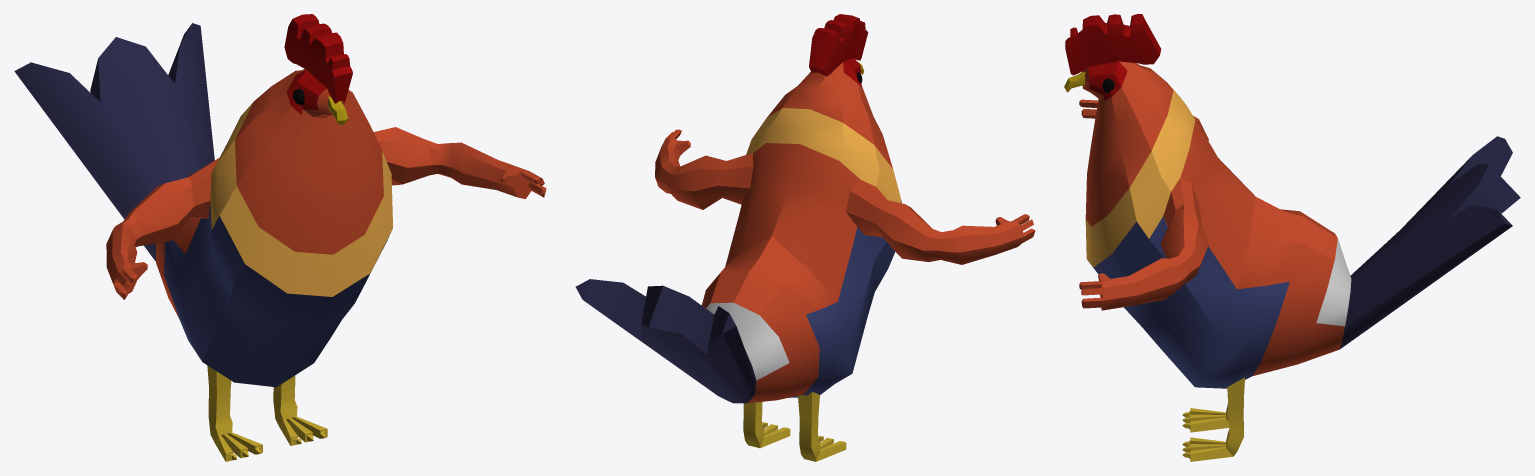
The model's file is rooster with arms model.fbx.
3 views of the same model, side by side, from view 1: azimuth 30°, elevation 25°; view 2: azimuth 150°, elevation 25°; view 3: azimuth 270°, elevation 25° (orthographic). The views are drawn at different scales.
Parts seen in each view (by area): view 1: Circle, Legs; view 2: Circle, Legs; view 3: Circle, Legs.
Part boxes in pixels (x1,y1,x2,y2): Circle: [14, 14, 546, 387]; Legs: [207, 365, 327, 461]; Circle: [575, 14, 1035, 403]; Legs: [743, 391, 846, 461]; Circle: [1065, 14, 1520, 388]; Legs: [1182, 377, 1244, 461].
Bounding box in the file's own units: 394 × 402 × 394.
